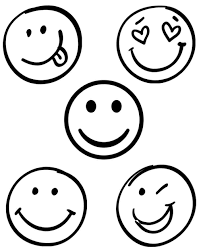feliz: (1, 4, 84, 85), (60, 77, 143, 158), (3, 166, 86, 247), (113, 165, 196, 246), (113, 4, 196, 84), (125, 15, 187, 73), (14, 177, 76, 235), (123, 178, 185, 236), (72, 91, 133, 149), (20, 22, 72, 72)
